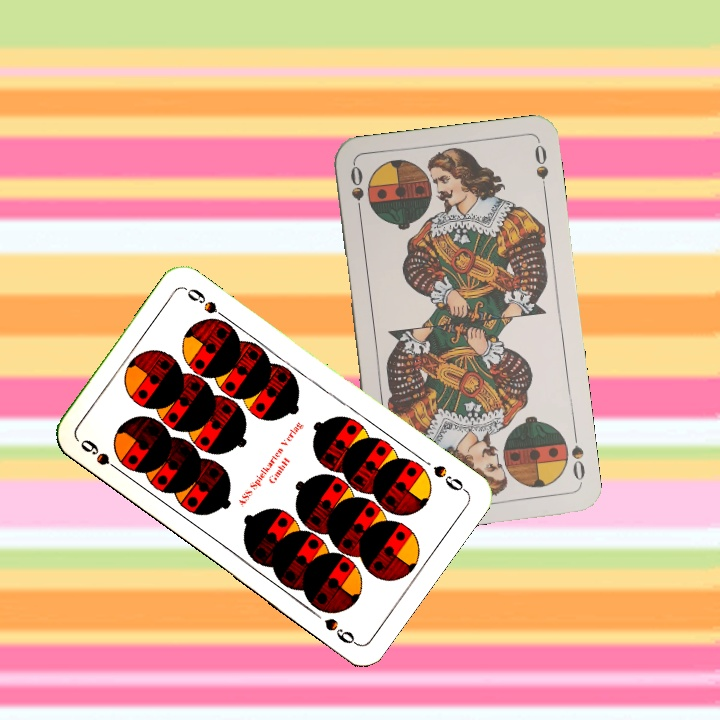S9: (76, 435, 125, 476), (429, 461, 469, 495)
SO: (346, 161, 366, 221), (567, 427, 587, 486)
